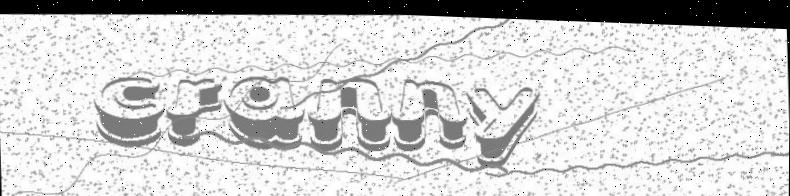a: (224, 70, 306, 151)
c: (93, 72, 164, 148)
n: (306, 70, 393, 152), (391, 73, 469, 150)
r: (165, 72, 225, 147)
y: (466, 80, 541, 166)
